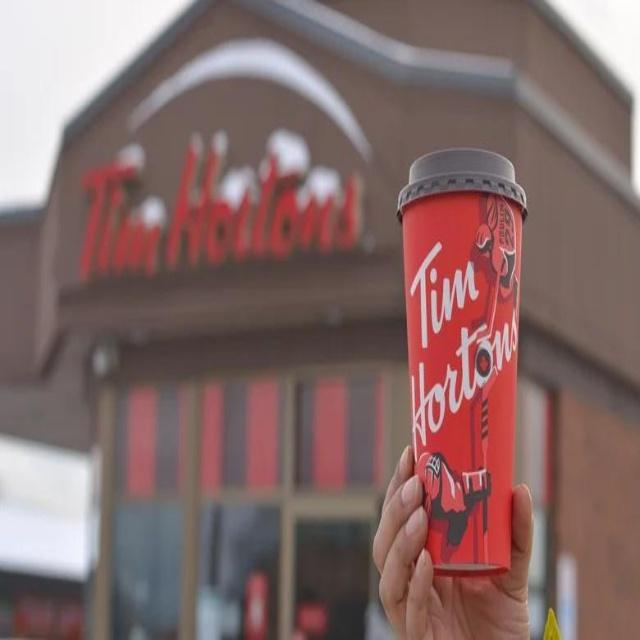timmies: (396, 141, 530, 578)
